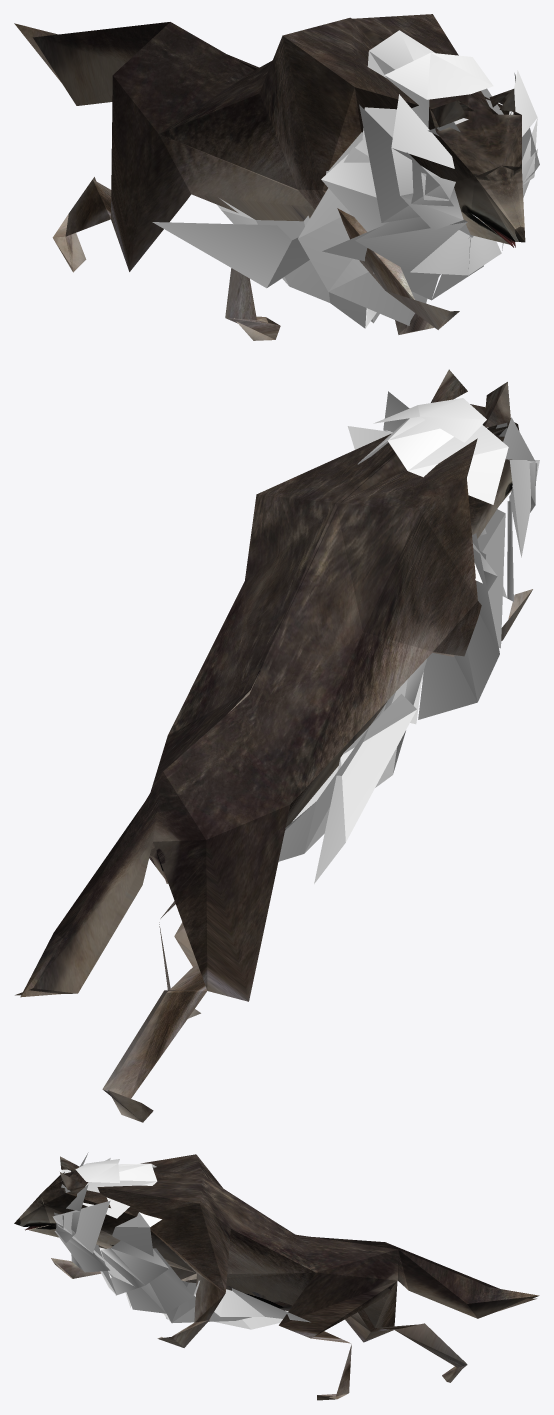
The model's file is spitter.glb.
The picture shows the model from 3 angles, top to bottom: view 1: azimuth 30°, elevation 25°; view 2: azimuth 150°, elevation 25°; view 3: azimuth 270°, elevation 25°; orthographic projection. The views are drawn at different scales.
Visible parts, largest first — view 1: spitter; view 2: spitter; view 3: spitter.
Part boxes in pixels (x1=…): spitter: x1=14, y1=14, x2=539, y2=340; spitter: x1=15, y1=369, x2=539, y2=1122; spitter: x1=14, y1=1152, x2=539, y2=1400.
Size of the model in its own units: 0.2481 by 0.5162 by 1.07.
2 materials, 1 textured.
